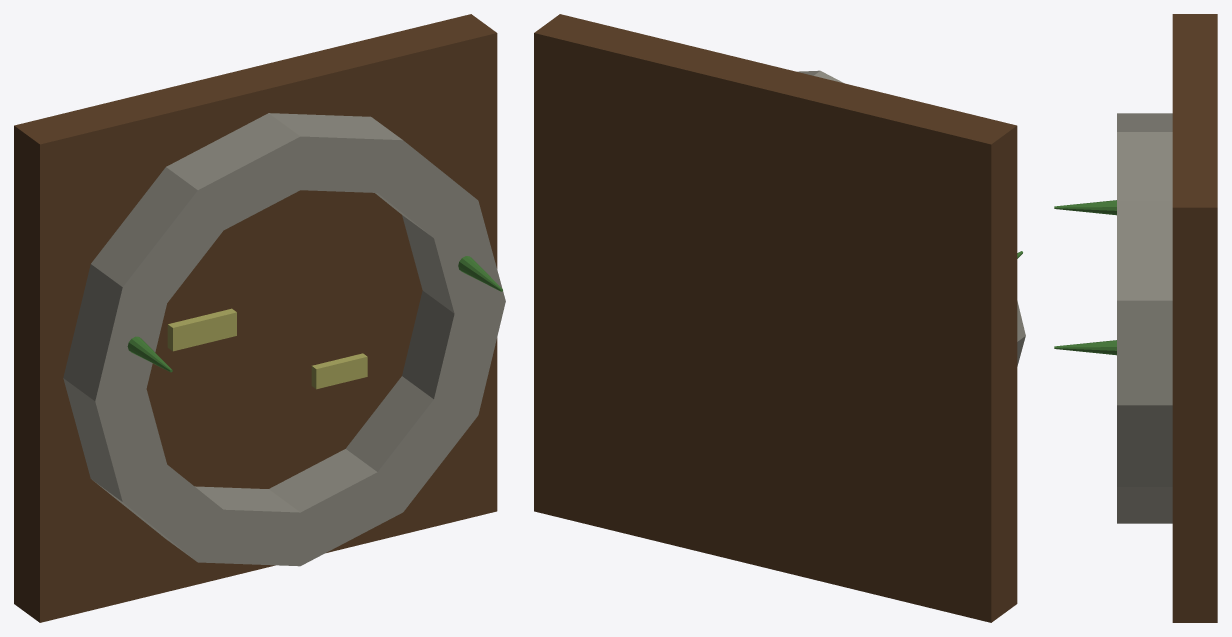
Rendered from fish-pond.obj.
The picture shows the model from 3 angles, left to right: view 1: azimuth 30°, elevation 25°; view 2: azimuth 150°, elevation 25°; view 3: azimuth 270°, elevation 25°; orthographic projection. The views are drawn at different scales.
Parts seen in each view (by area): view 1: fish-pond_earth_foundation, fish-pond_stone_embankment, fish-pond_fish_a, fish-pond_fish_b; view 2: fish-pond_earth_foundation; view 3: fish-pond_earth_foundation, fish-pond_stone_embankment, fish-pond_reed_0, fish-pond_reed_1.
Part boxes in pixels (bbox=[...]): fish-pond_earth_foundation: bbox=[14, 14, 497, 622]; fish-pond_stone_embankment: bbox=[63, 113, 505, 566]; fish-pond_fish_a: bbox=[167, 308, 236, 351]; fish-pond_fish_b: bbox=[311, 353, 367, 389]; fish-pond_earth_foundation: bbox=[534, 14, 1017, 622]; fish-pond_earth_foundation: bbox=[1172, 14, 1217, 622]; fish-pond_stone_embankment: bbox=[1117, 113, 1172, 523]; fish-pond_reed_0: bbox=[1054, 200, 1116, 215]; fish-pond_reed_1: bbox=[1054, 340, 1116, 355].
Bounding box in the file's own units: 2.85 × 2.85 × 1.01.
